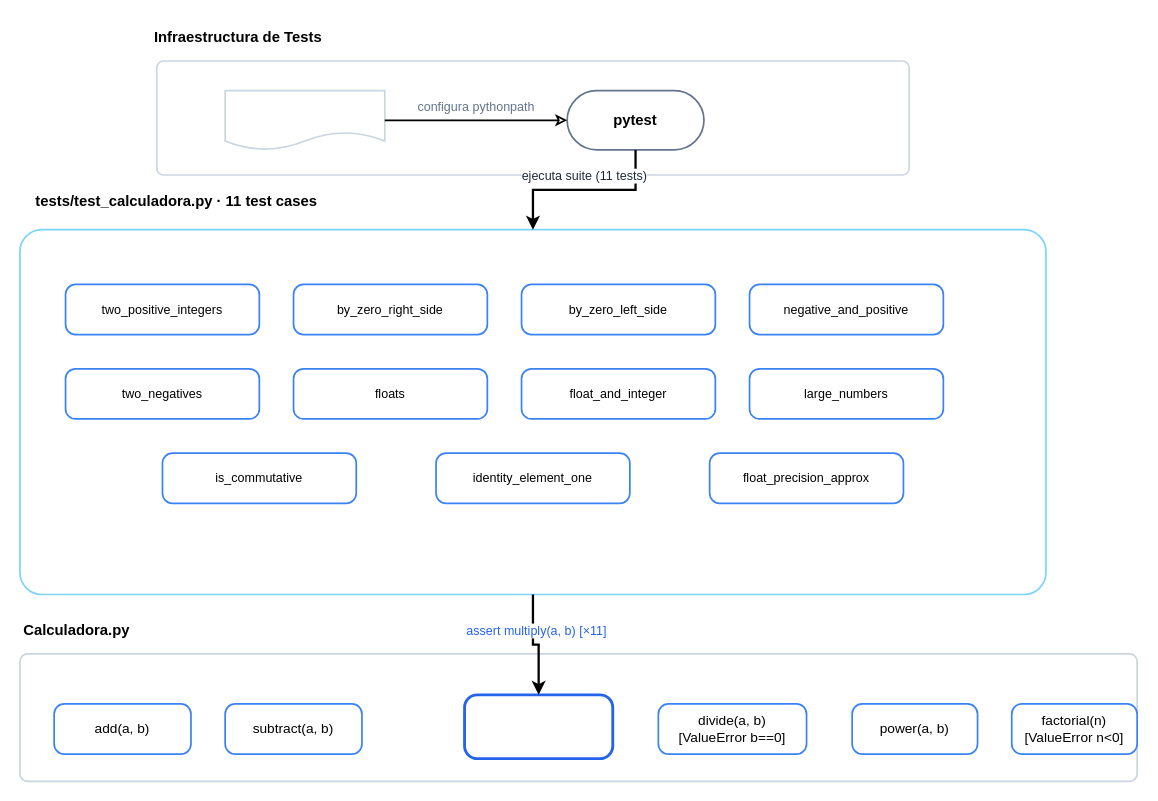
The diagram is 1158 pixels wide and 801 high, and some of its shapes have lost their labels. Here are the shapes that lost their labels. From the top down, the centre of each, then its label:
At [304,119]: "pytest.ini pythonpath = .".
At [538,726]: "multiply(a, b)".
